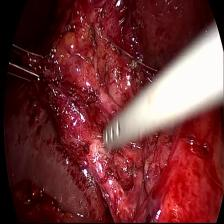Grasper: (4, 35, 52, 89)
Irrigator: (100, 103, 137, 153)
